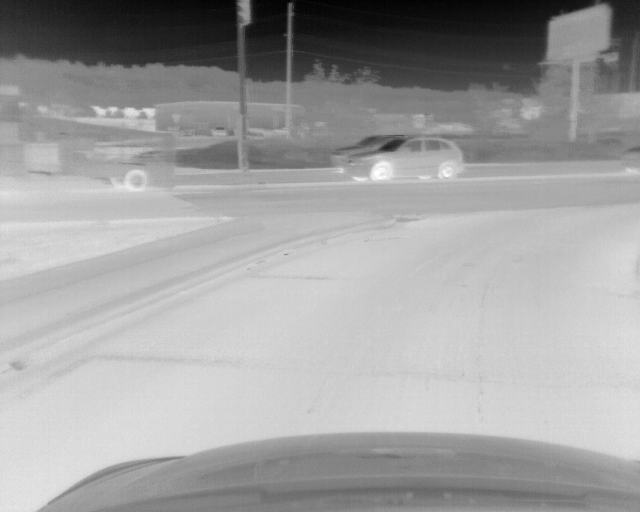car: (1, 124, 174, 194), (346, 137, 465, 181), (331, 136, 403, 170), (616, 145, 640, 177)
